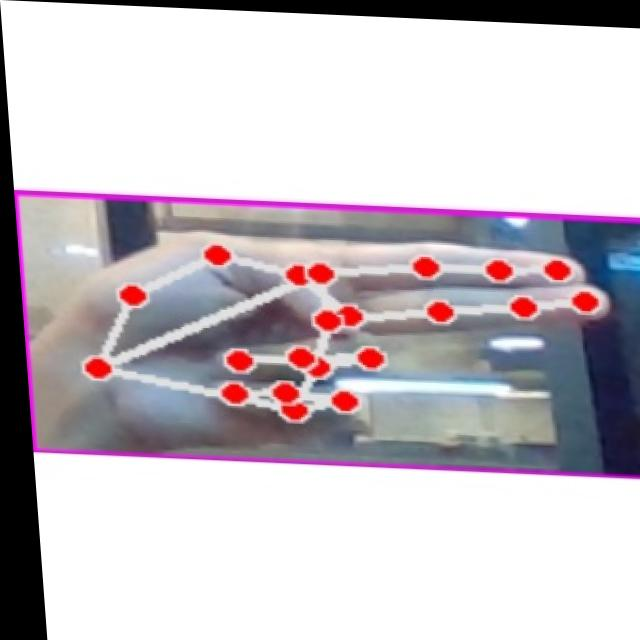H: (32, 207, 632, 465)
